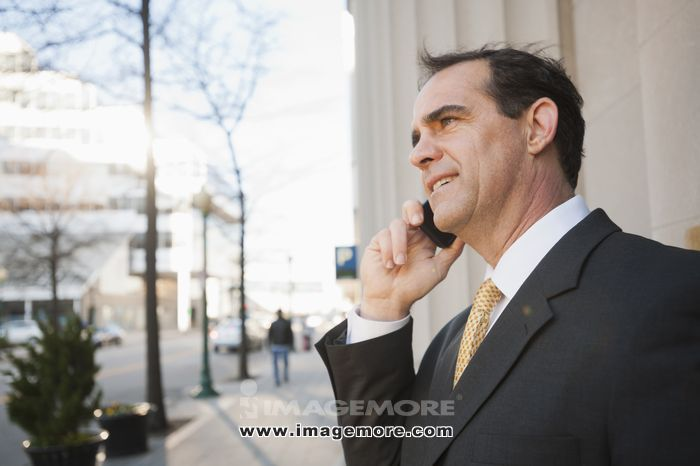phone: (396, 188, 474, 250)
talk: (354, 95, 508, 309)
